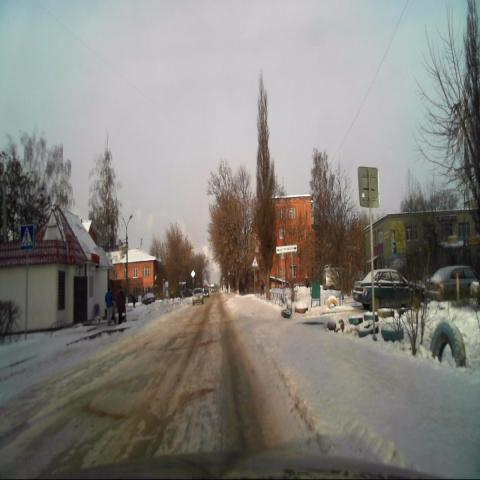5_19_1: (20, 225, 34, 251)
